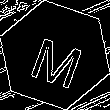M_N: (24, 23, 86, 87)
